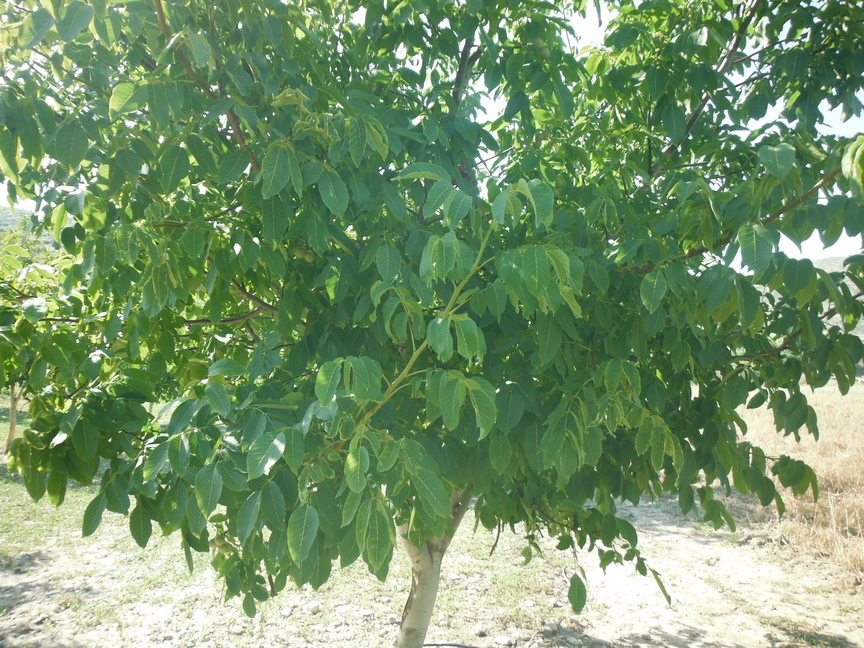walnut: (292, 243, 308, 258), (537, 46, 554, 60), (216, 542, 231, 557), (303, 250, 318, 265), (213, 532, 228, 546), (530, 35, 544, 50), (552, 175, 564, 190), (539, 128, 552, 141), (530, 139, 543, 151), (532, 131, 545, 143), (550, 187, 562, 199), (206, 536, 217, 549)
